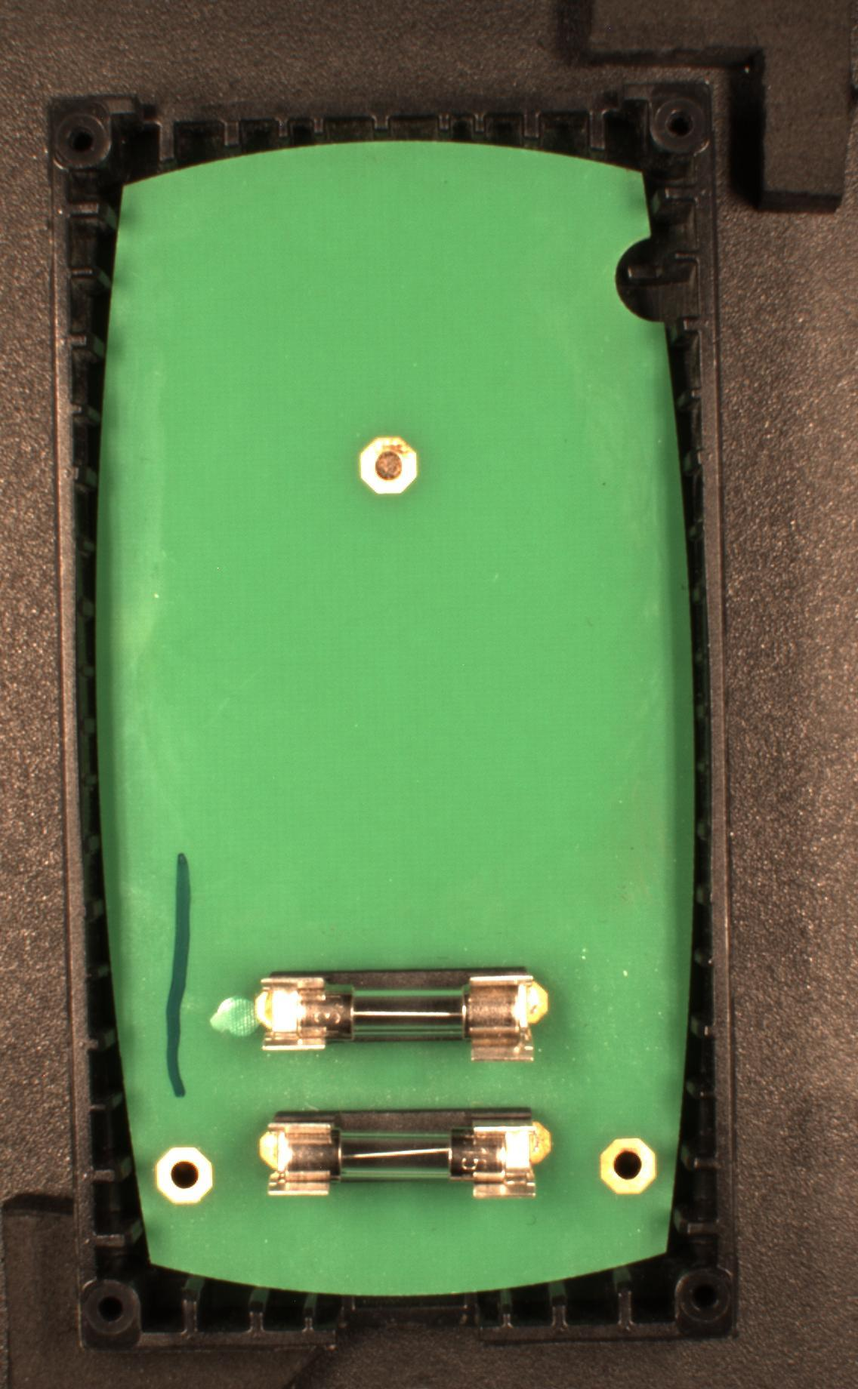Linijsko Ostecene: (160, 842, 195, 1105)
